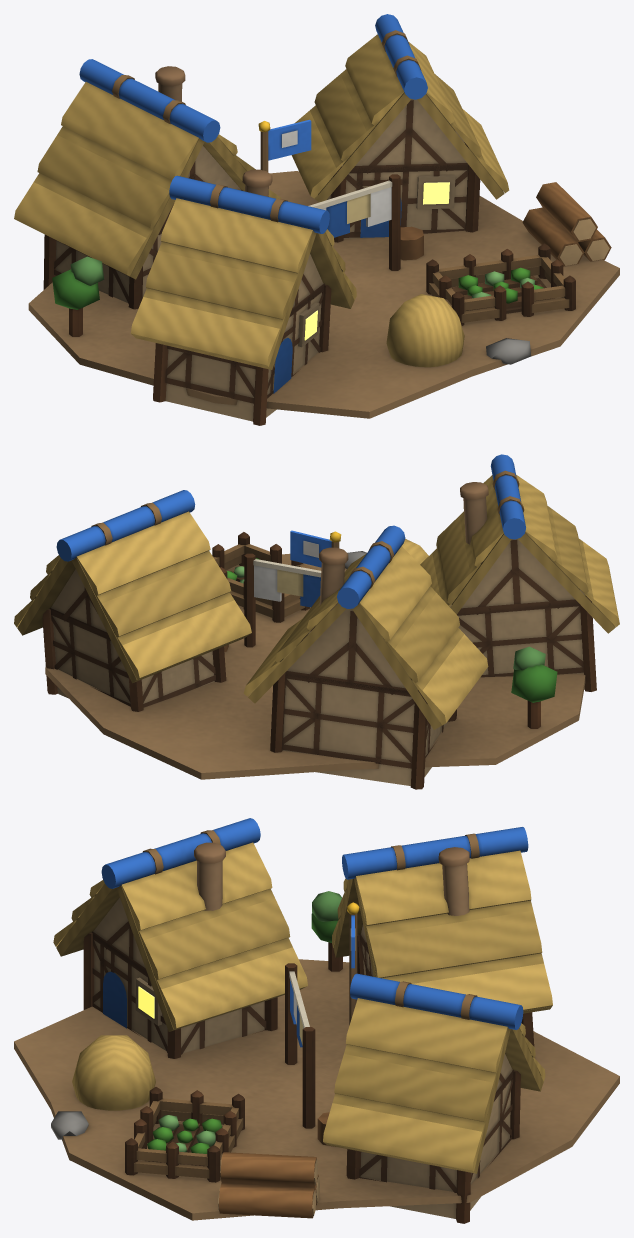
File: city_dl1_blue.glb
The picture shows the model from 3 angles, top to bottom: view 1: azimuth 30°, elevation 25°; view 2: azimuth 150°, elevation 25°; view 3: azimuth 270°, elevation 25°; orthographic projection. The views are drawn at different scales.
Parts seen in each view (by area): view 1: city_dl1_blue; view 2: city_dl1_blue; view 3: city_dl1_blue.
Part boxes in pixels (x1,y1,x2,y2): city_dl1_blue: (14, 14, 619, 425); city_dl1_blue: (14, 454, 619, 789); city_dl1_blue: (14, 818, 619, 1223).
Size of the model in its own units: 1.4 by 0.5666 by 1.37.
2 materials, 1 textured.
